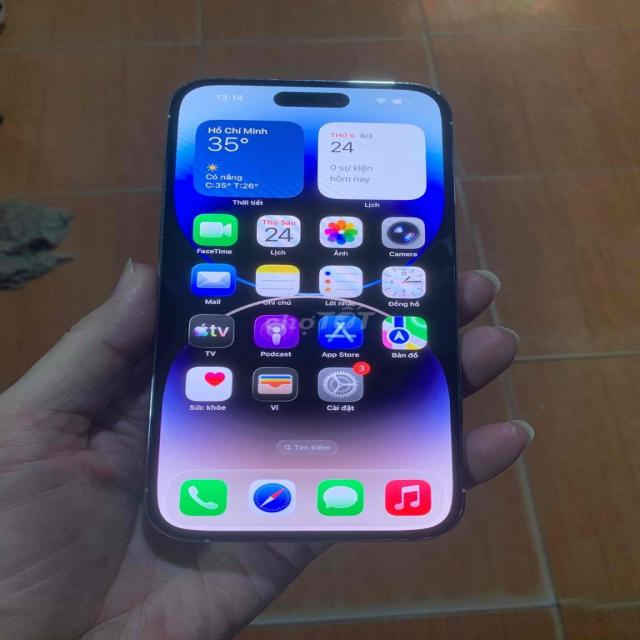gen_14: (136, 73, 474, 546)
